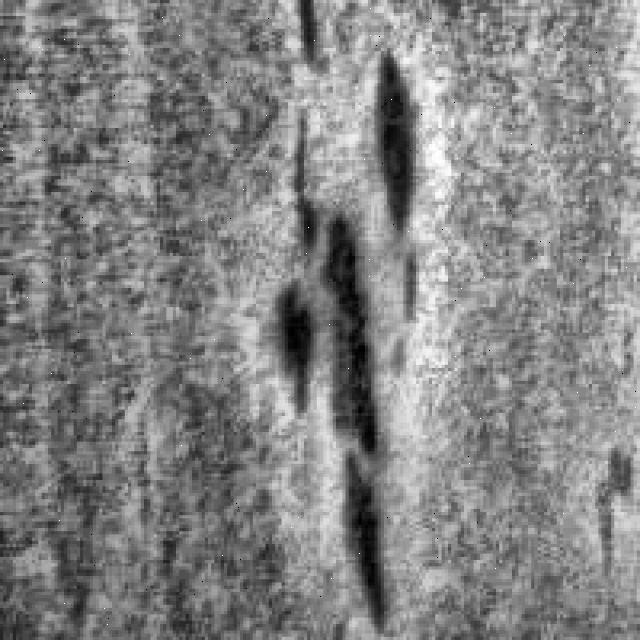Patches: (278, 108, 400, 628), (364, 45, 436, 326), (269, 272, 333, 419), (570, 442, 636, 566), (292, 0, 327, 70)
